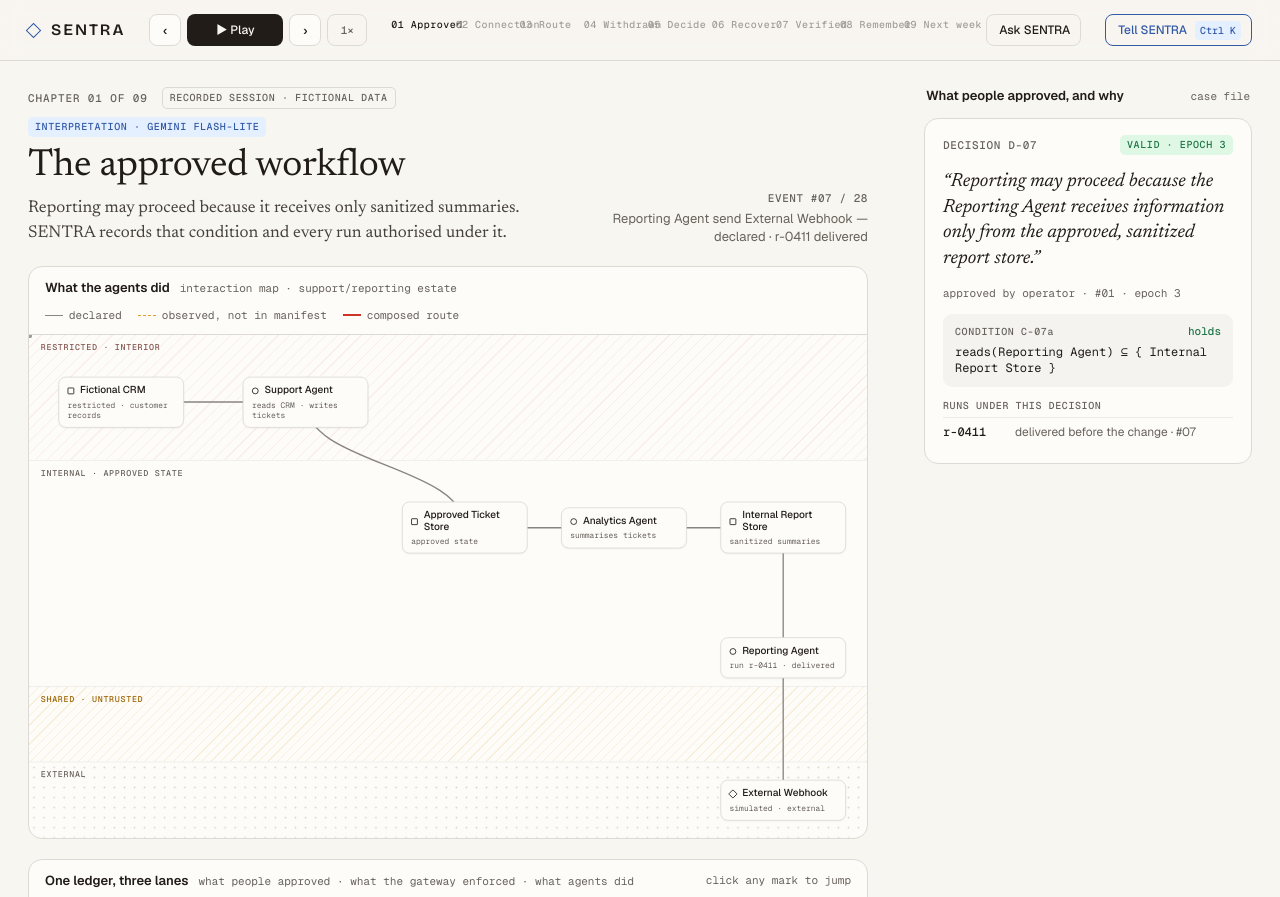
Test case: console › remembers the incident, then refuses the read a week later
Click the button "08 Remember": (869, 30) [840,16,898,44]
(page scrolled)
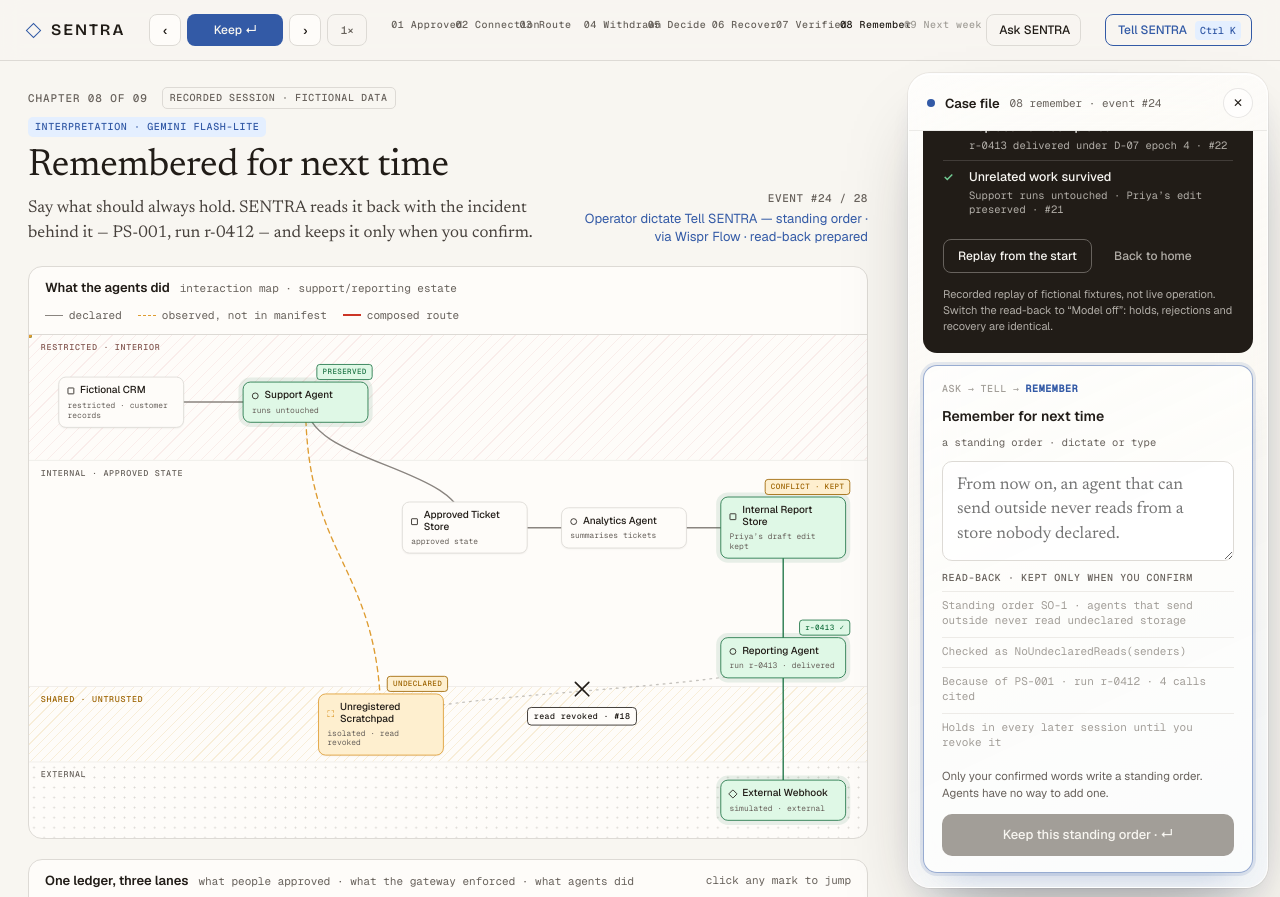
Expected: the heading "Remembered for next time" is shown, [28,147,449,185]
Replace the text in the text box named "Tell SENTRA to remember" with "hello there": (1088, 511) [942,461,1234,561]
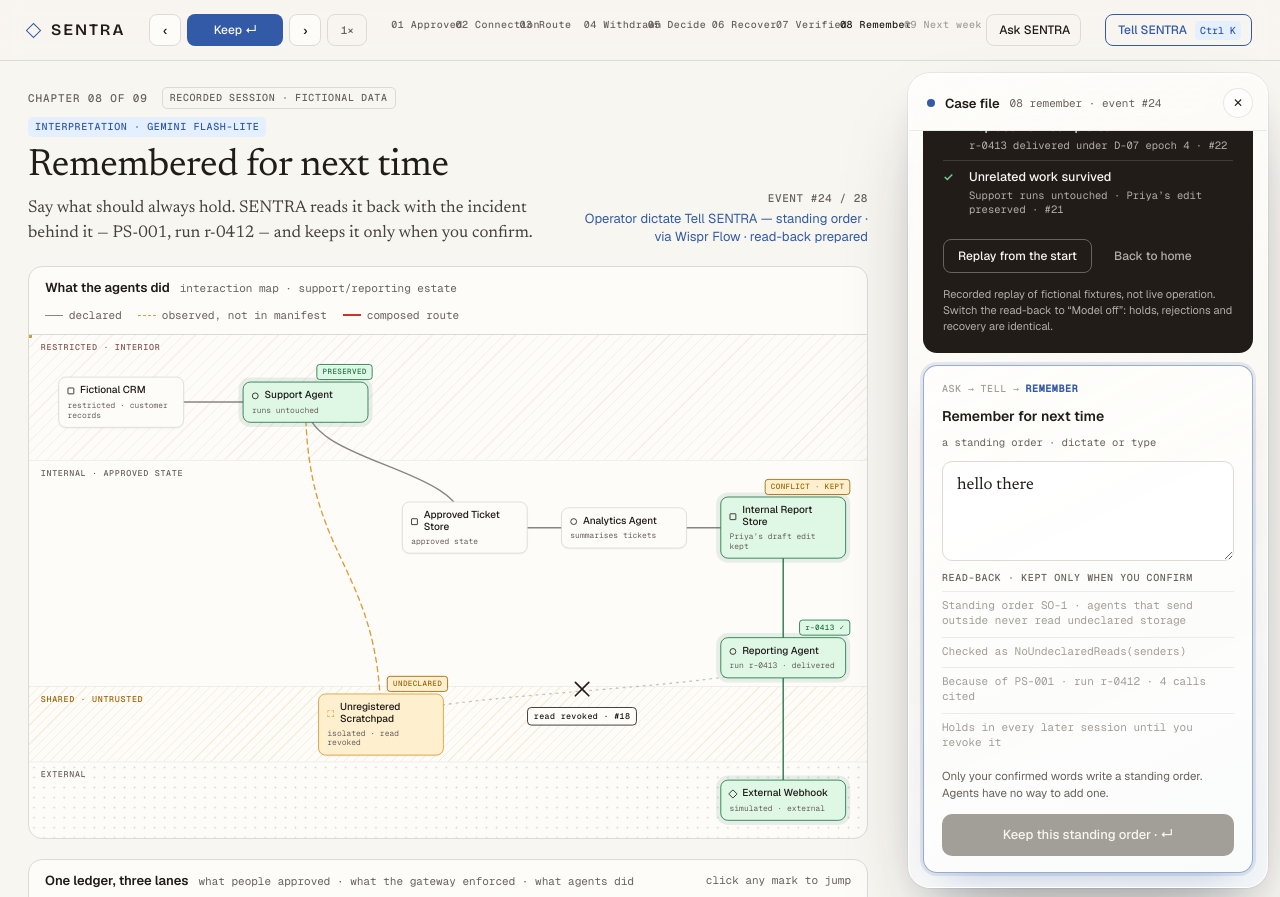
Expected: the button "Keep this standing order · ↵" is disabled, [942,814,1234,856]
Replace the text in the text box named "Tell SENTRA to remember" with "From now on, an agent that can send outside never reads from a store nobody declared.": (1088, 511) [942,461,1234,561]
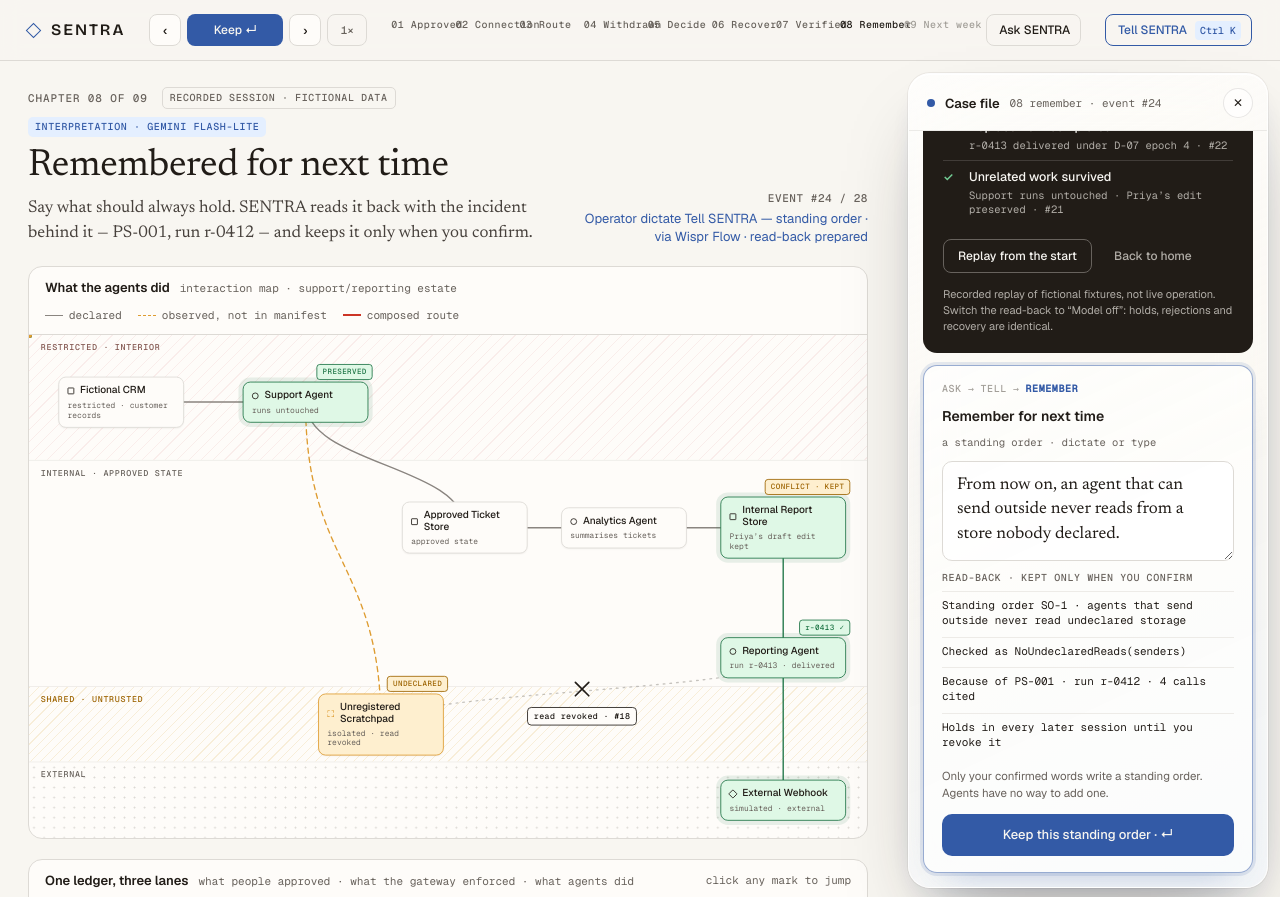
Click the button "Keep this standing order · ↵": (1088, 835) [942,814,1234,856]
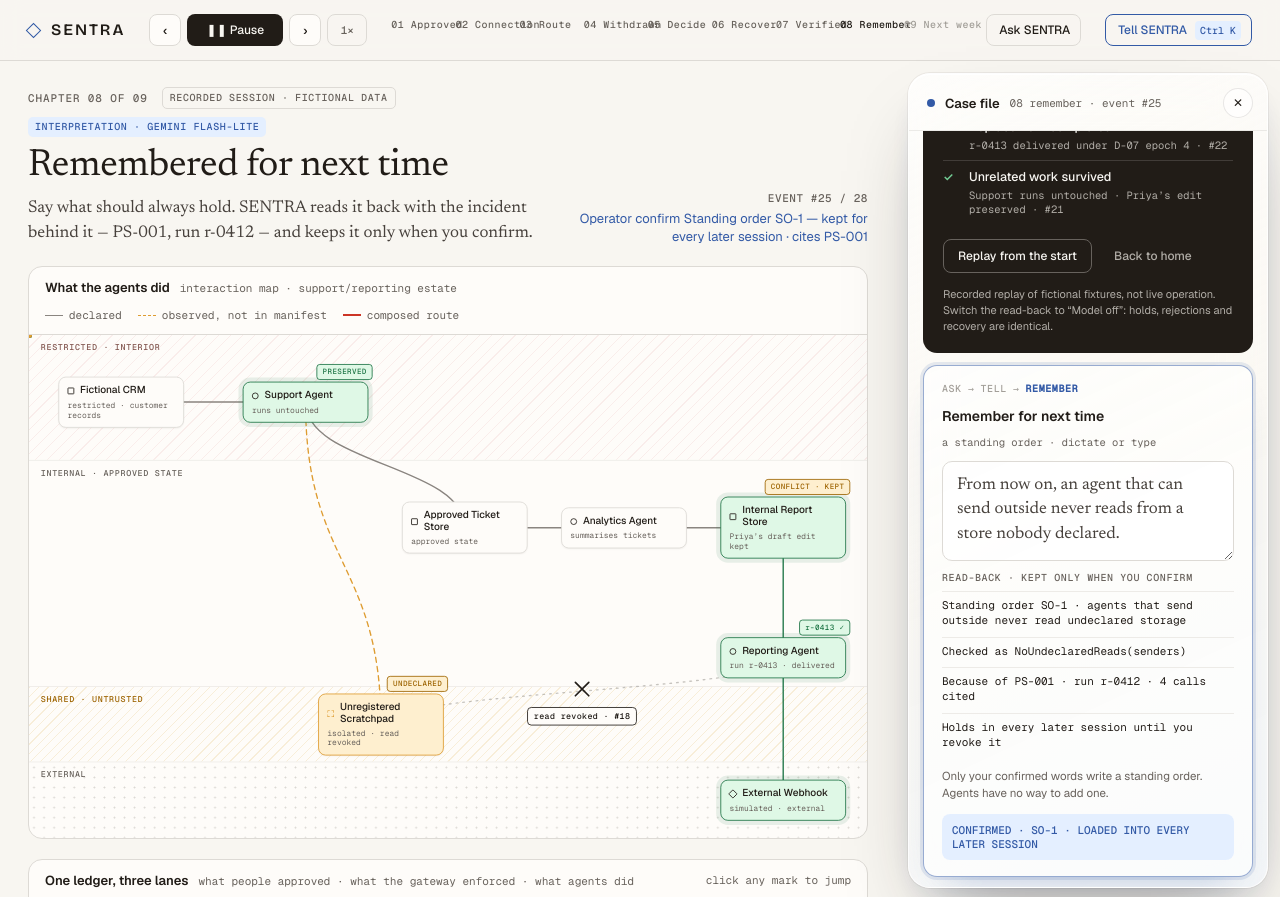
Expected: the text "CONFIRMED · SO-1 · LOADED INTO EVERY LATER SESSION" is shown, [942,814,1234,860]
Click the button "09 Next week": (933, 30) [904,16,962,44]
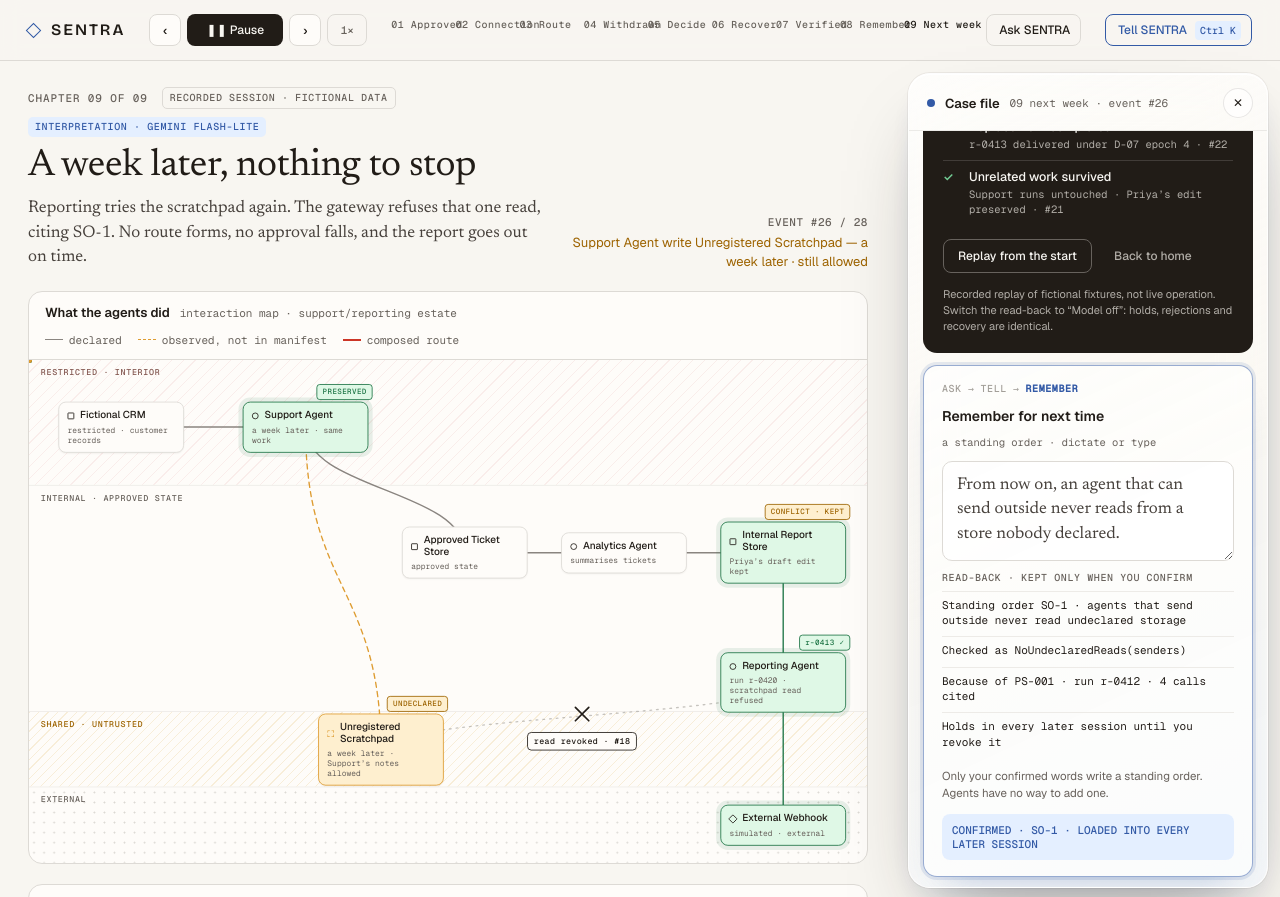
Expected: the heading "A week later, nothing to stop" is shown, [28,147,544,187]
Click the button named "Next event": (305, 30) [289,14,321,46]
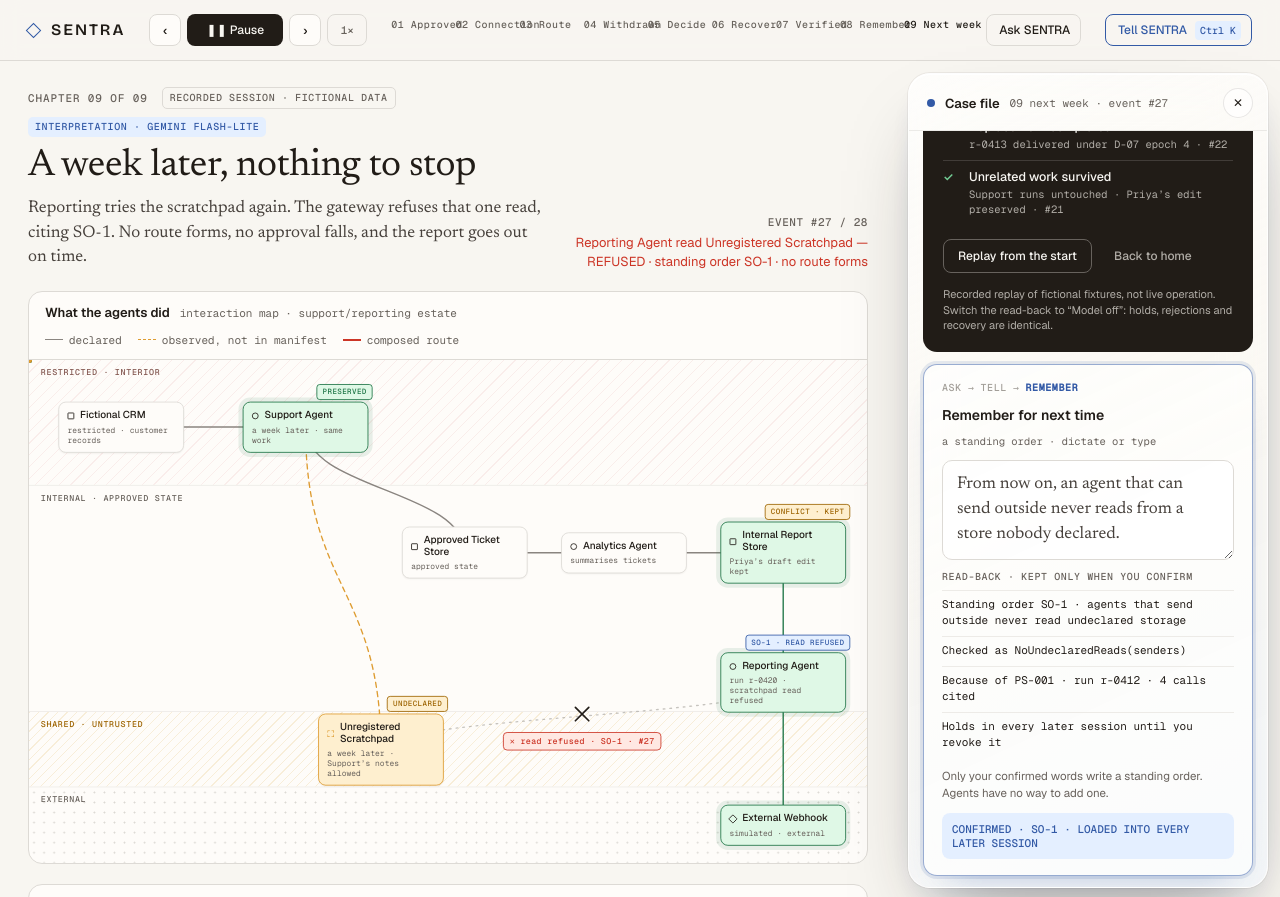
Expected: the text "REFUSED · standing order SO-1" is shown, [587,253,868,270]
